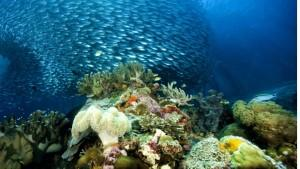bleached_corals: (62, 63, 286, 169)
